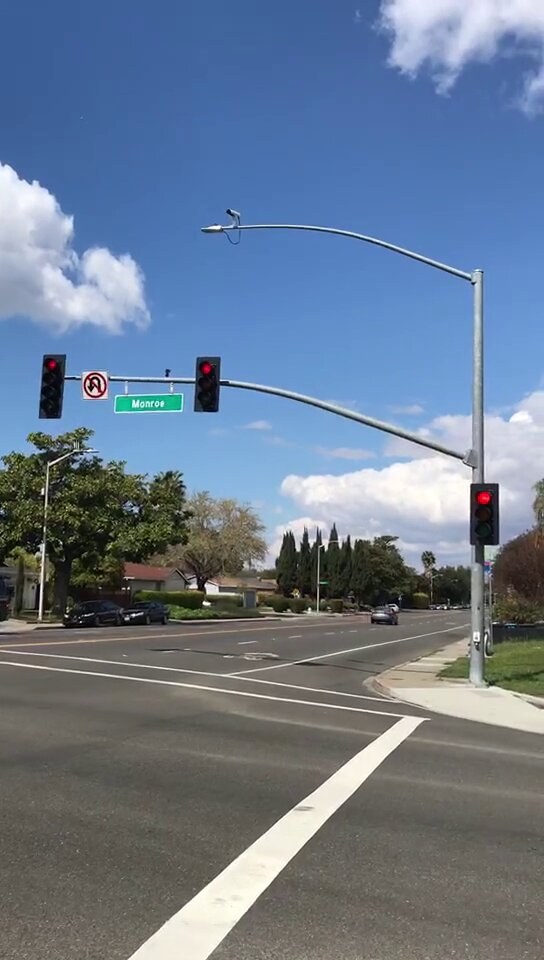red_light: (470, 486, 499, 544), (197, 358, 218, 410), (44, 356, 62, 416)
